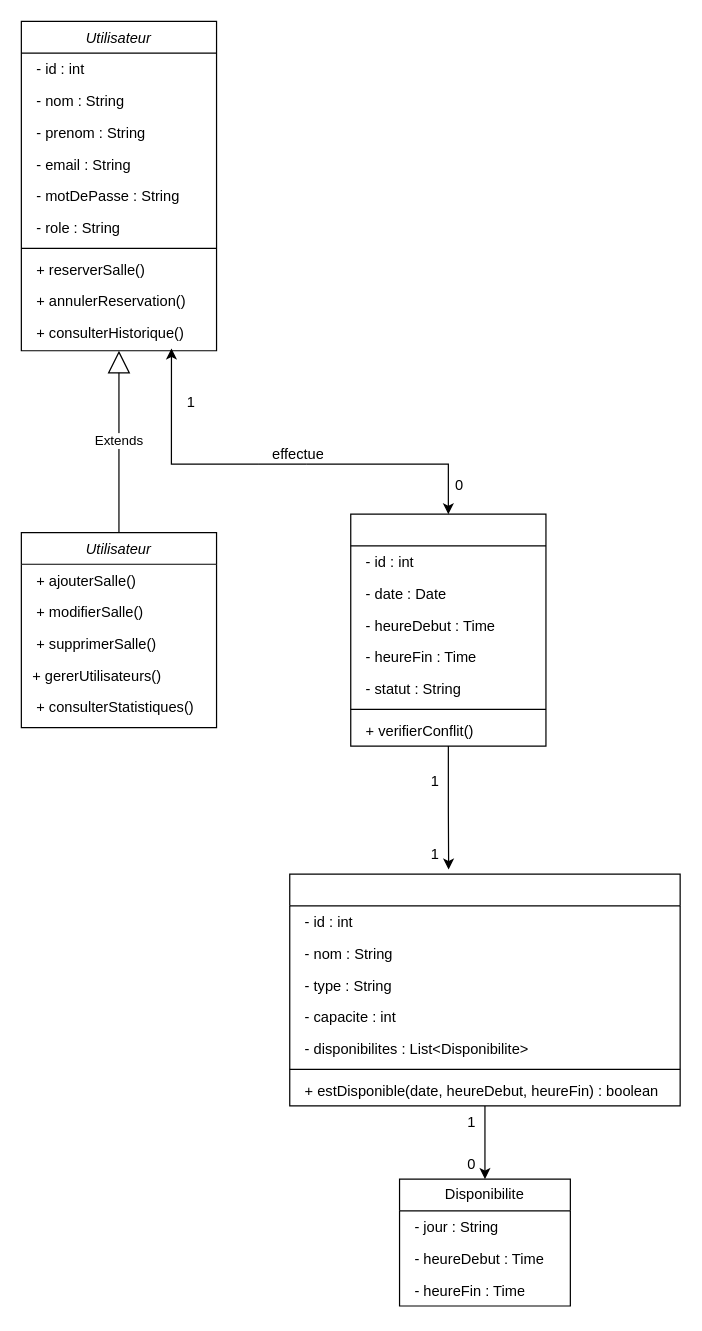
This 702x1331 diagram has some shape labels left out. The box of each missing label's shape, as (x1, y1, x2, y2) in pixels:
Reservation: (350, 513, 546, 746)
Salle: (289, 873, 680, 1106)
